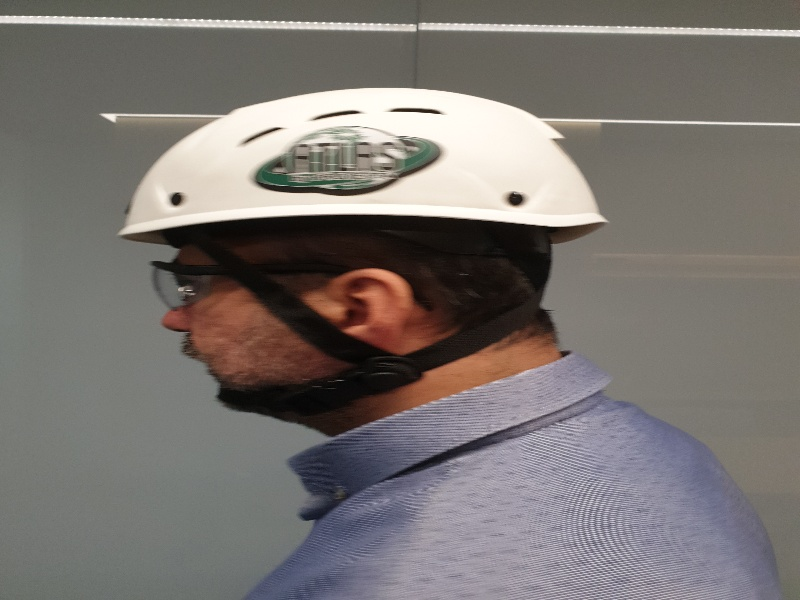Baret: (124, 88, 607, 231)
Gozluk: (146, 258, 365, 307)
